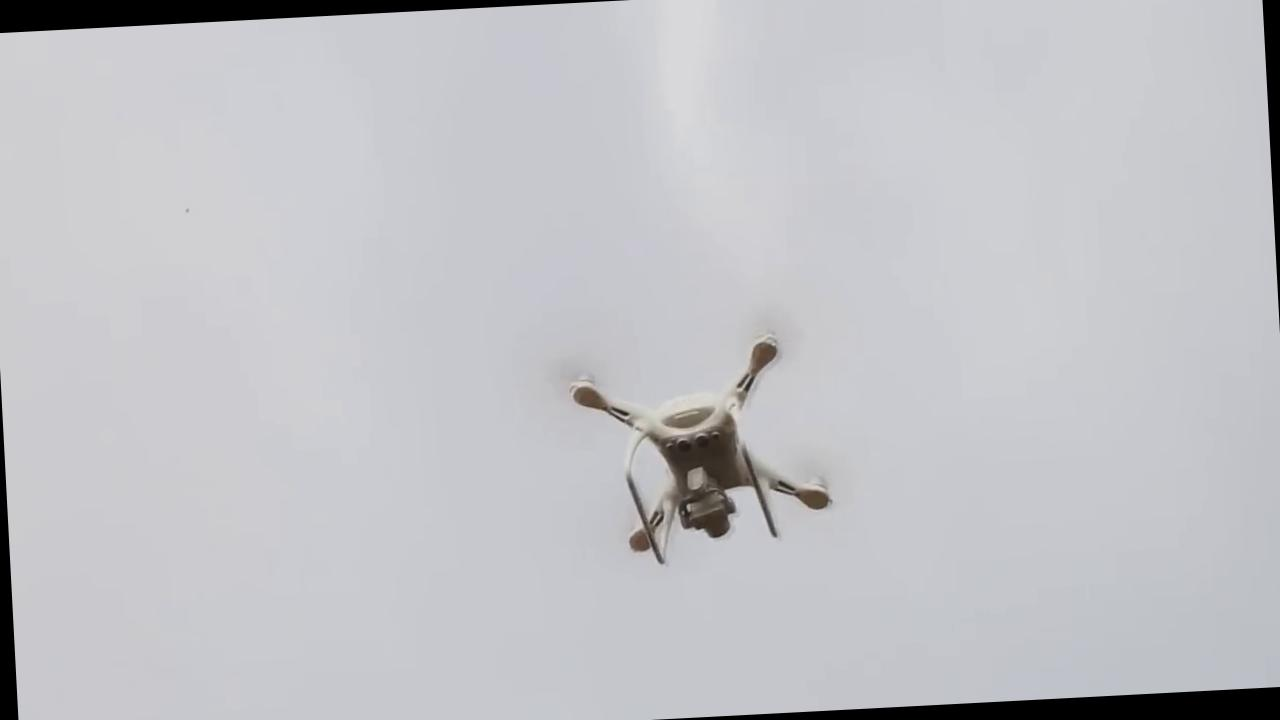drone: (551, 317, 843, 571)
